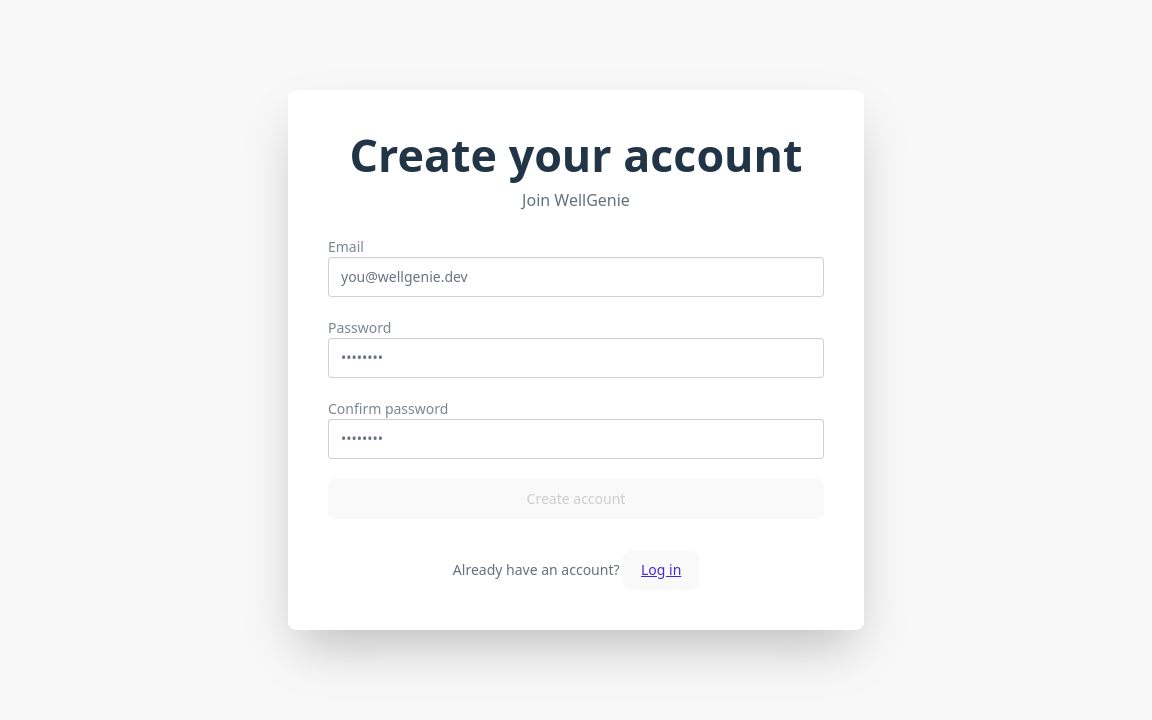
Test: SignUp › shows inline mismatch message and keeps submit disabled when passwords differ
In the field with test id "email": (576, 277) [328,257,824,297], type "new@wellgenie.dev"
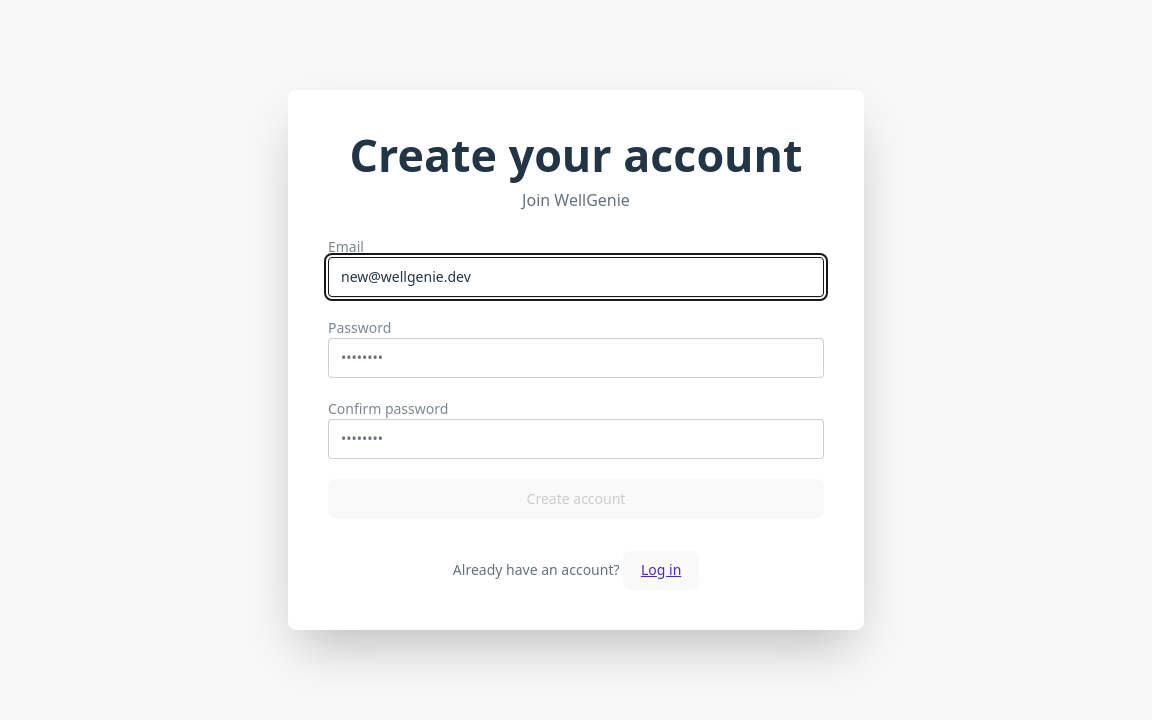
In the password field with test id "password": (576, 358) [328,338,824,378], type "abc12345"
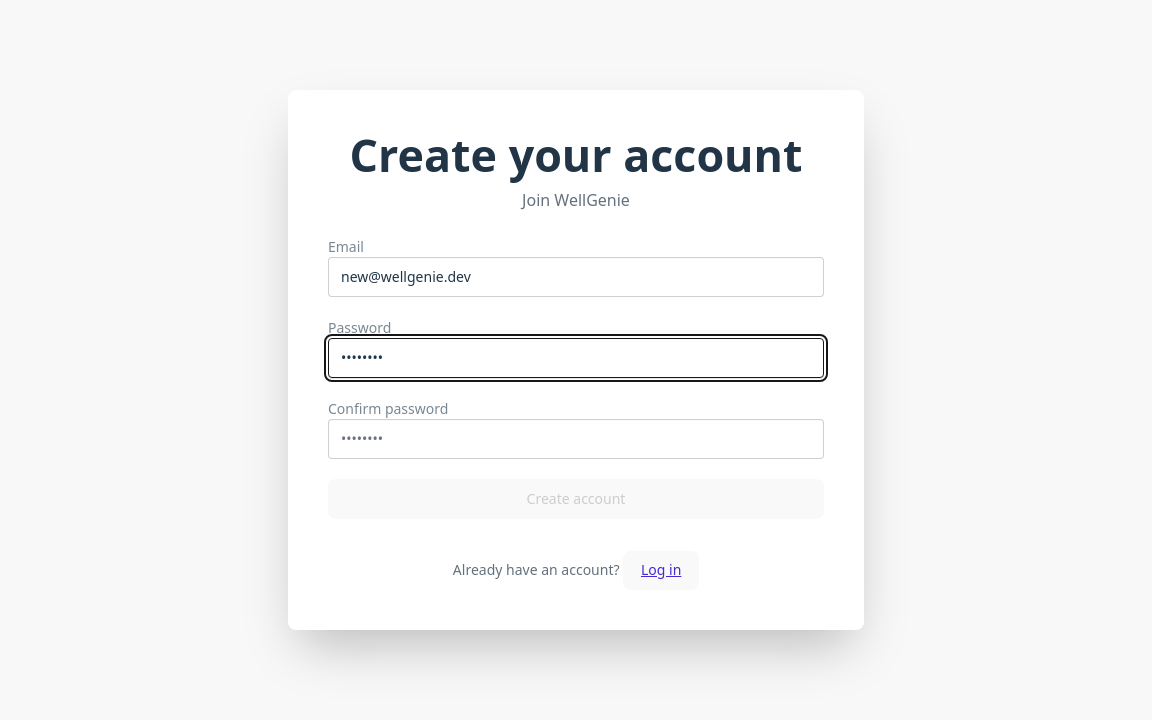
In the password field with test id "confirm-password": (576, 439) [328,419,824,459], type "different123"
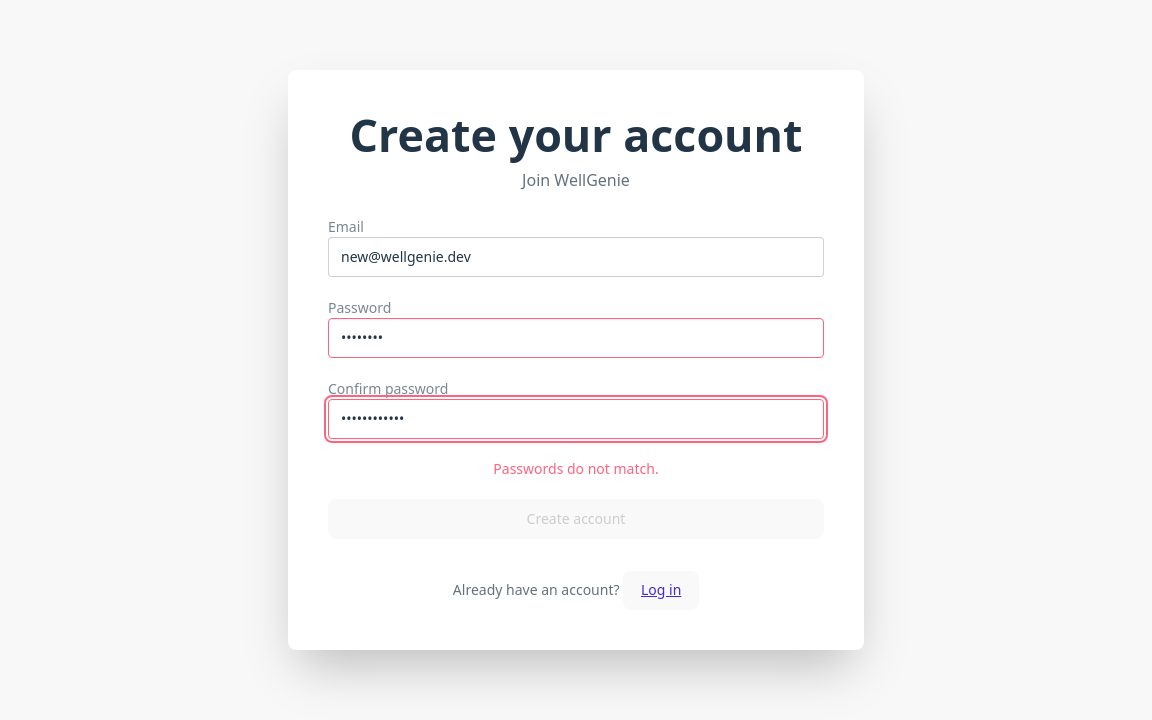
Expected: the button with test id "signup-submit" is disabled, [328,499,824,539]
Result: the text "Passwords do not match." is shown at [493,459,659,478]
